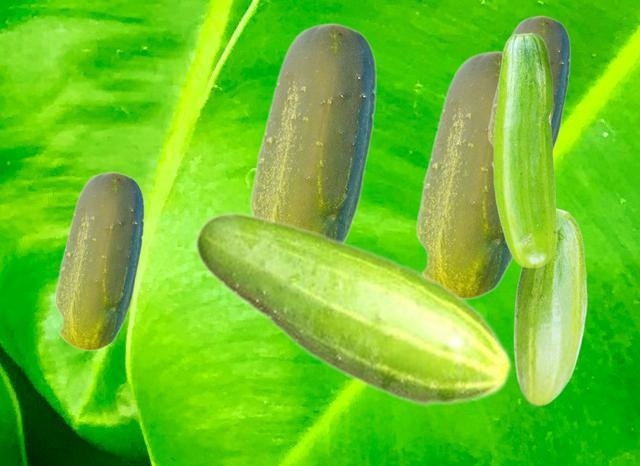cucumber: (194, 211, 512, 407), (249, 22, 375, 240), (415, 50, 512, 299), (54, 171, 143, 350), (493, 32, 556, 267), (513, 208, 586, 405), (487, 15, 569, 167)
